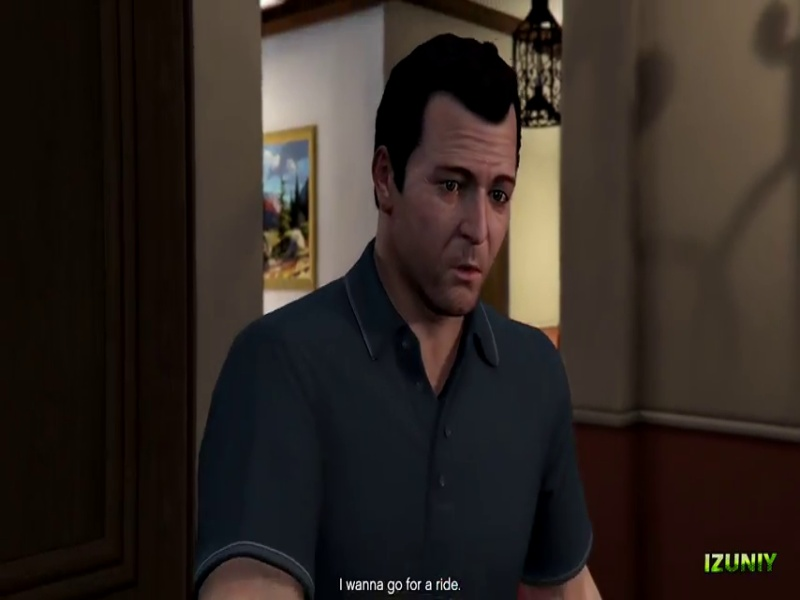human: (188, 26, 613, 595)
